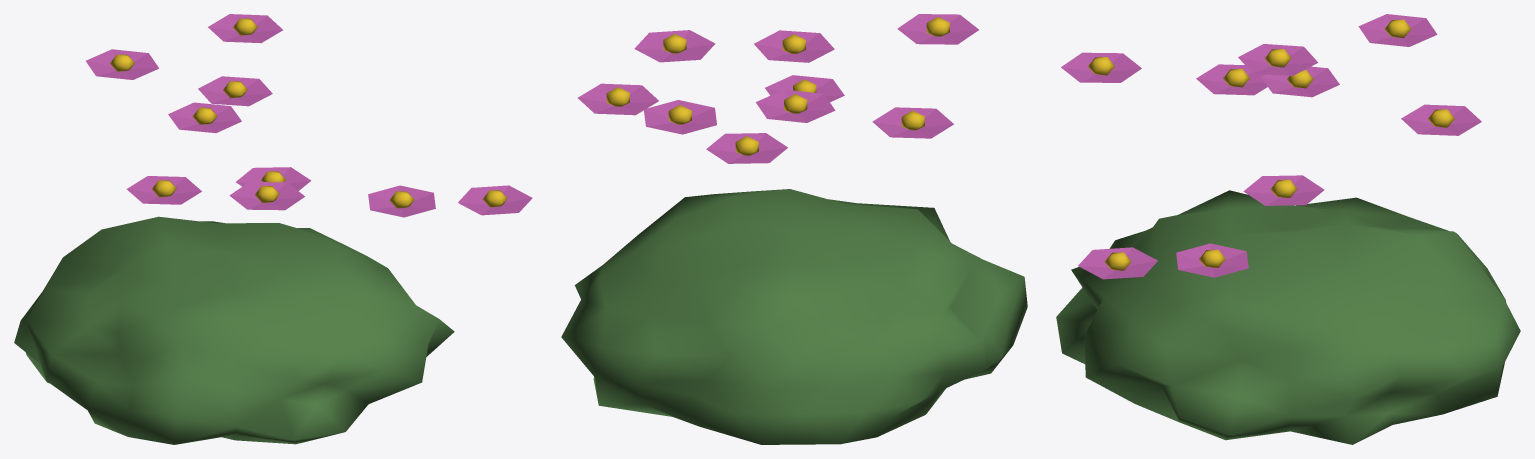
File: alpine_flowers_1_mid.glb
The picture shows the model from 3 angles, left to right: view 1: azimuth 30°, elevation 25°; view 2: azimuth 150°, elevation 25°; view 3: azimuth 270°, elevation 25°; orthographic projection. The views are drawn at different scales.
Parts seen in each view (by area): view 1: alpine_flowers_1_mid; view 2: alpine_flowers_1_mid; view 3: alpine_flowers_1_mid.
Part boxes in pixels (box(x1,y1,x2,y2)): alpine_flowers_1_mid: box(14, 14, 532, 444); alpine_flowers_1_mid: box(561, 14, 1027, 444); alpine_flowers_1_mid: box(1056, 14, 1520, 444).
Bounding box in the file's own units: 0.2905 × 0.1994 × 0.2734.
